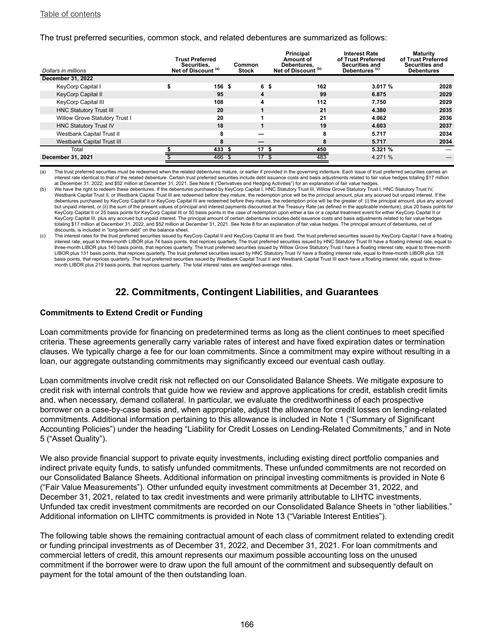box: (38, 53, 455, 167)
